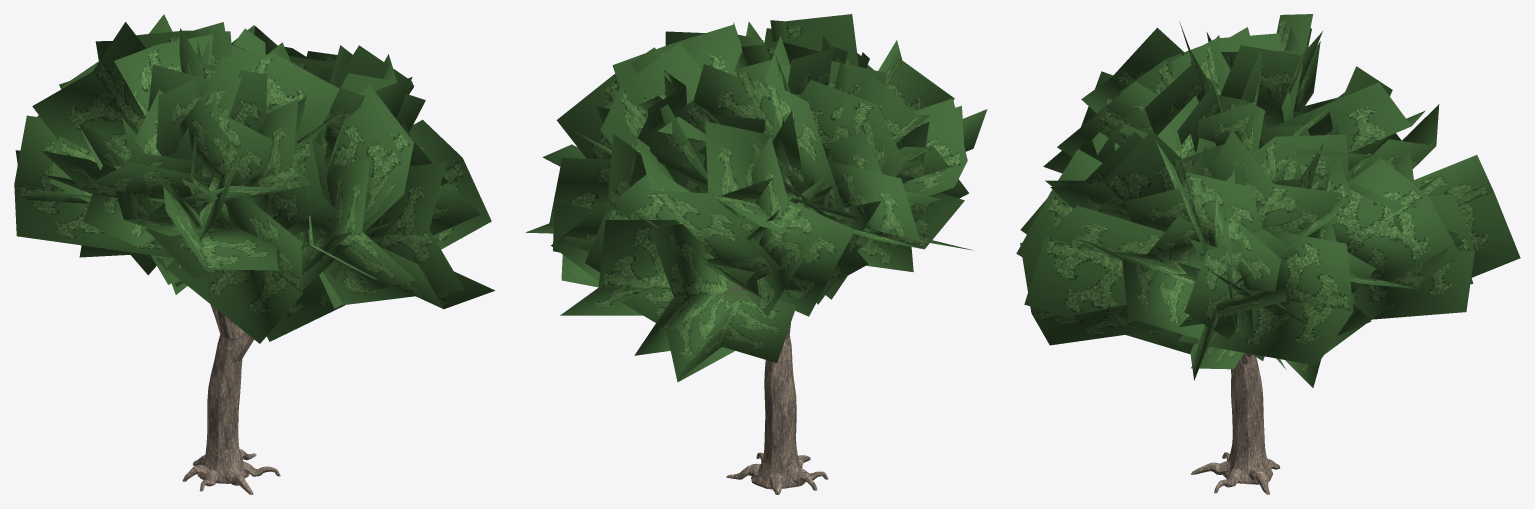
Rendered from environment_elm3_v76.fbx.
3 views of the same model, side by side, from view 1: azimuth 30°, elevation 25°; view 2: azimuth 150°, elevation 25°; view 3: azimuth 270°, elevation 25° (orthographic). The views are drawn at different scales.
Visible parts, largest first — view 1: environment_elm3_v76_lod0; view 2: environment_elm3_v76_lod0; view 3: environment_elm3_v76_lod0.
Boxes of the visible parts, x1,y1,x2,y2 form: environment_elm3_v76_lod0: [14, 14, 494, 494]; environment_elm3_v76_lod0: [525, 14, 987, 494]; environment_elm3_v76_lod0: [1016, 14, 1520, 494].
Size of what is drawn, in the model's own units: 2871 by 2796 by 2917.
2 materials, 2 textured.
